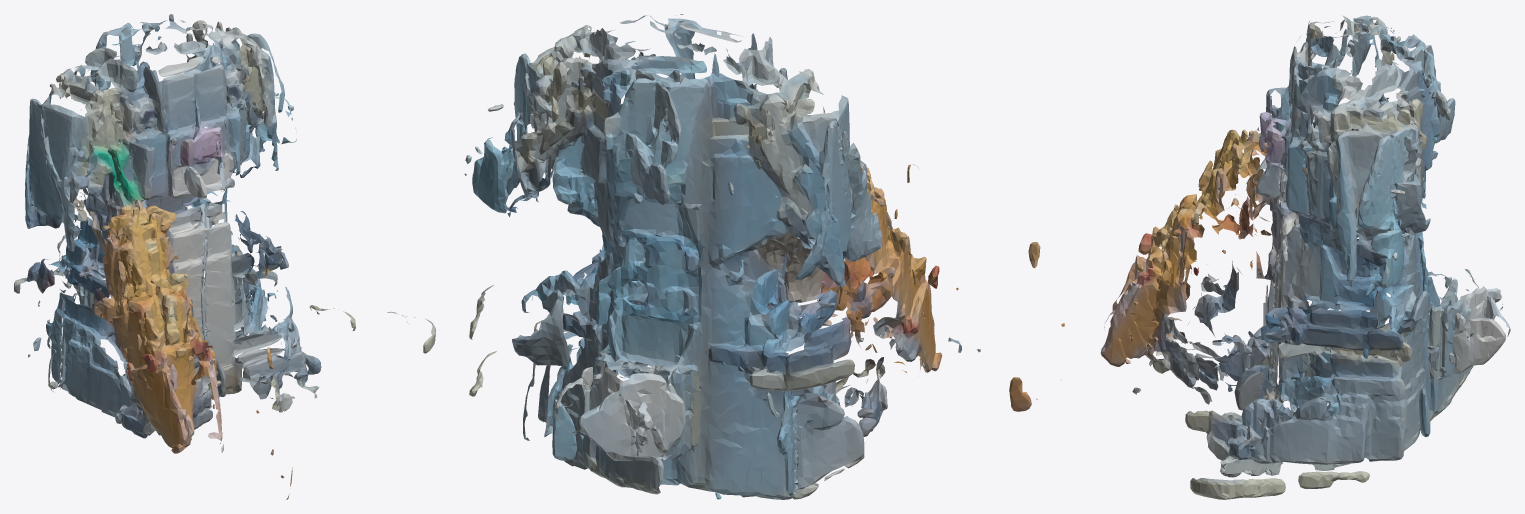
The model's file is finished_model_20260520_131348.glb.
The picture shows the model from 3 angles, left to right: view 1: azimuth 30°, elevation 25°; view 2: azimuth 150°, elevation 25°; view 3: azimuth 270°, elevation 25°; orthographic projection. The views are drawn at different scales.
Visible parts, largest first — view 1: finished_model_20260520_131348.ply; view 2: finished_model_20260520_131348.ply; view 3: finished_model_20260520_131348.ply.
Part boxes in pixels (x1,y1,x2,y2): finished_model_20260520_131348.ply: (14, 14, 435, 499); finished_model_20260520_131348.ply: (464, 14, 980, 499); finished_model_20260520_131348.ply: (1009, 15, 1510, 499).
Size of the model in its own units: 0.107 by 0.0916 by 0.1051.
